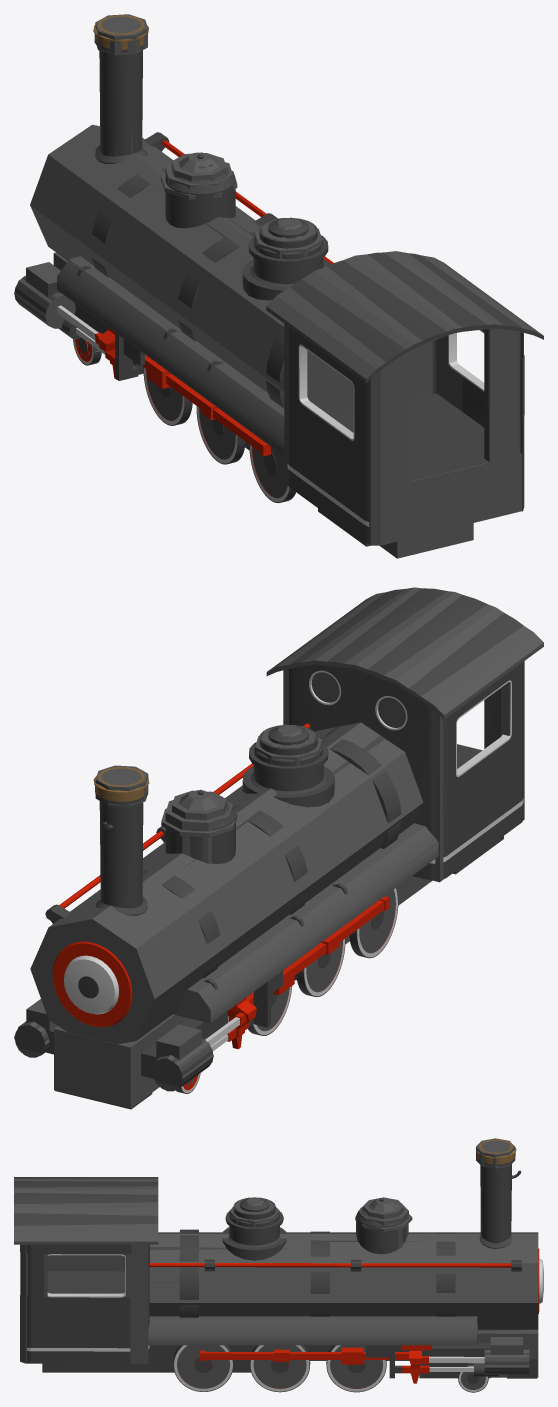
Rendered from DarkGreyMetalMechLargeTrainEngine1.fbx.
3 renders of one model, top to bottom at view 1: azimuth 30°, elevation 25°; view 2: azimuth 150°, elevation 25°; view 3: azimuth 270°, elevation 25°, orthographic. The views are drawn at different scales.
Parts seen in each view (by area): view 1: DarkGreyMetalMechLargeTrainEngine1, COLObject1, COLObject34, COLObject17, COLObject20, COLObject19, COLObject40, COLObject39, COLObject41, COLObject4, COLObject44, COLObject5 (+14 smaller); view 2: DarkGreyMetalMechLargeTrainEngine1, COLObject1, COLObject34, COLObject6, COLObject40, COLObject4, COLObject39, COLObject41, COLObject44, COLObject43, COLObject15, COLObject3 (+6 smaller); view 3: DarkGreyMetalMechLargeTrainEngine1, COLObject1, COLObject33, COLObject43, COLObject42, COLObject14, COLObject25, COLObject44, COLObject4, COLObject24, COLObject7, COLObject26 (+8 smaller).
Part boxes in pixels (box(x1,y1,x2,y2)): DarkGreyMetalMechLargeTrainEngine1: box(14, 15, 543, 546); COLObject1: box(30, 124, 284, 399); COLObject34: box(57, 256, 284, 455); COLObject17: box(380, 453, 522, 545); COLObject20: box(489, 328, 519, 462); COLObject19: box(380, 351, 410, 488); COLObject40: box(277, 271, 414, 369); COLObject39: box(315, 255, 454, 344); COLObject41: box(266, 296, 376, 382); COLObject4: box(161, 152, 237, 199); COLObject44: box(356, 251, 495, 331); COLObject5: box(245, 442, 473, 558); DarkGreyMetalMechLargeTrainEngine1: box(14, 588, 523, 1109); COLObject1: box(30, 722, 423, 1044); COLObject34: box(173, 823, 438, 1023); COLObject6: box(54, 1014, 188, 1108); COLObject40: box(396, 607, 533, 708); COLObject4: box(161, 790, 237, 863); COLObject39: box(355, 592, 495, 684); COLObject41: box(434, 632, 543, 719); COLObject44: box(314, 587, 454, 668); COLObject43: box(276, 587, 413, 670); COLObject15: box(95, 765, 148, 806); COLObject3: box(255, 725, 322, 765); DarkGreyMetalMechLargeTrainEngine1: box(14, 1139, 543, 1392); COLObject1: box(149, 1232, 538, 1329); COLObject33: box(148, 1316, 477, 1345); COLObject43: box(14, 1207, 158, 1232); COLObject42: box(14, 1232, 158, 1244); COLObject14: box(20, 1295, 148, 1364); COLObject25: box(177, 1345, 229, 1388); COLObject44: box(14, 1189, 158, 1207); COLObject4: box(355, 1197, 412, 1248); COLObject24: box(253, 1345, 310, 1388); COLObject7: box(47, 1255, 124, 1271); COLObject26: box(326, 1345, 382, 1388).
Bounding box in the file's own units: 233 × 393 × 831.
